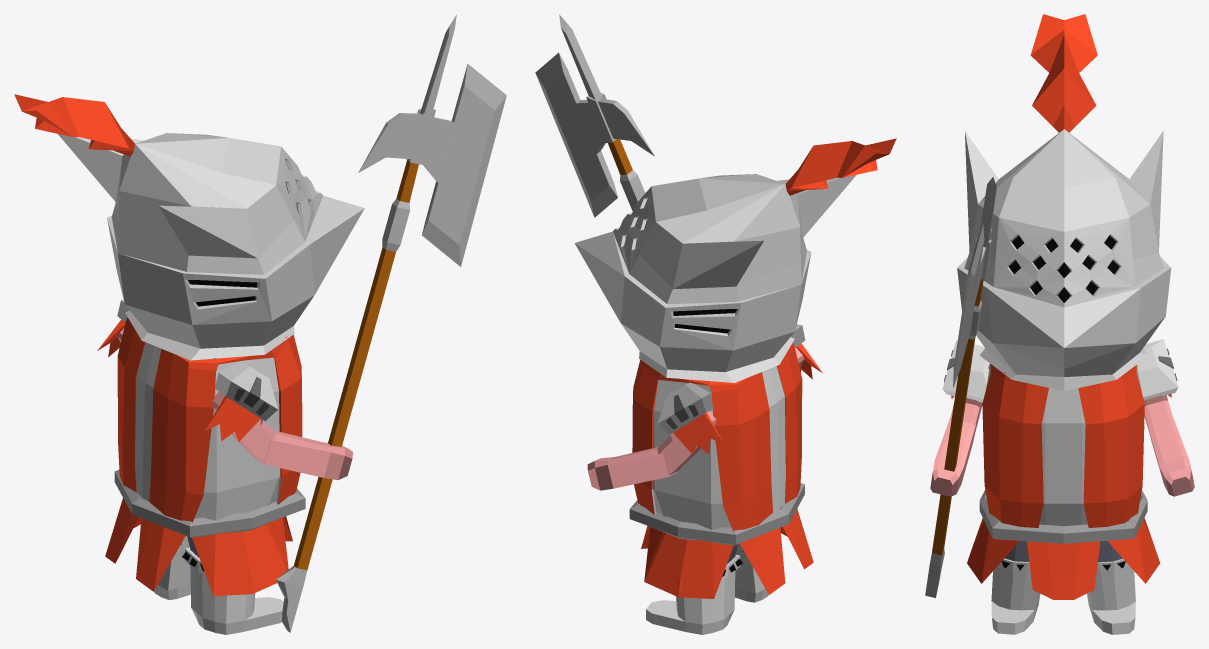
The model's file is halberdier.glb.
3 renders of one model, left to right at view 1: azimuth 30°, elevation 25°; view 2: azimuth 150°, elevation 25°; view 3: azimuth 270°, elevation 25°, orthographic. The views are drawn at different scales.
Parts seen in each view (by area): view 1: halberdier; view 2: halberdier; view 3: halberdier.
Boxes of the visible parts, x1=… form: halberdier: x1=14, y1=14, x2=506, y2=634; halberdier: x1=535, y1=14, x2=896, y2=634; halberdier: x1=925, y1=14, x2=1194, y2=634.
Size of the model in its own units: 5.16 by 6.41 by 2.93.
Materials: 4 (1 with a texture image).
